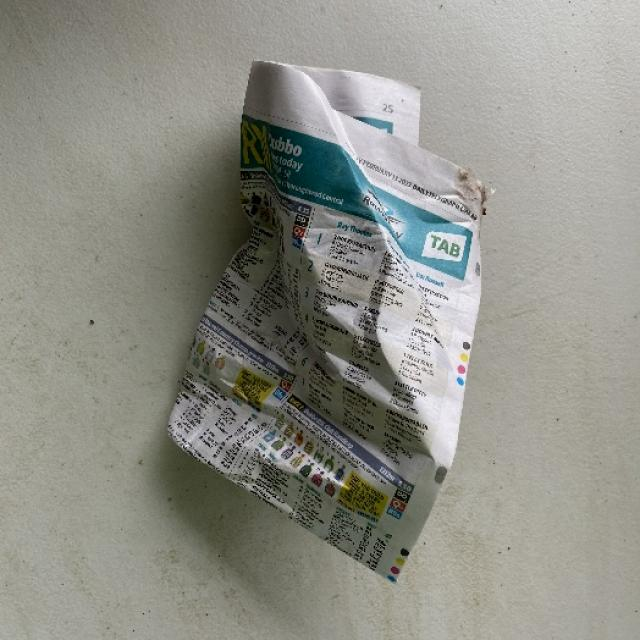inorganic: (162, 51, 493, 584)
